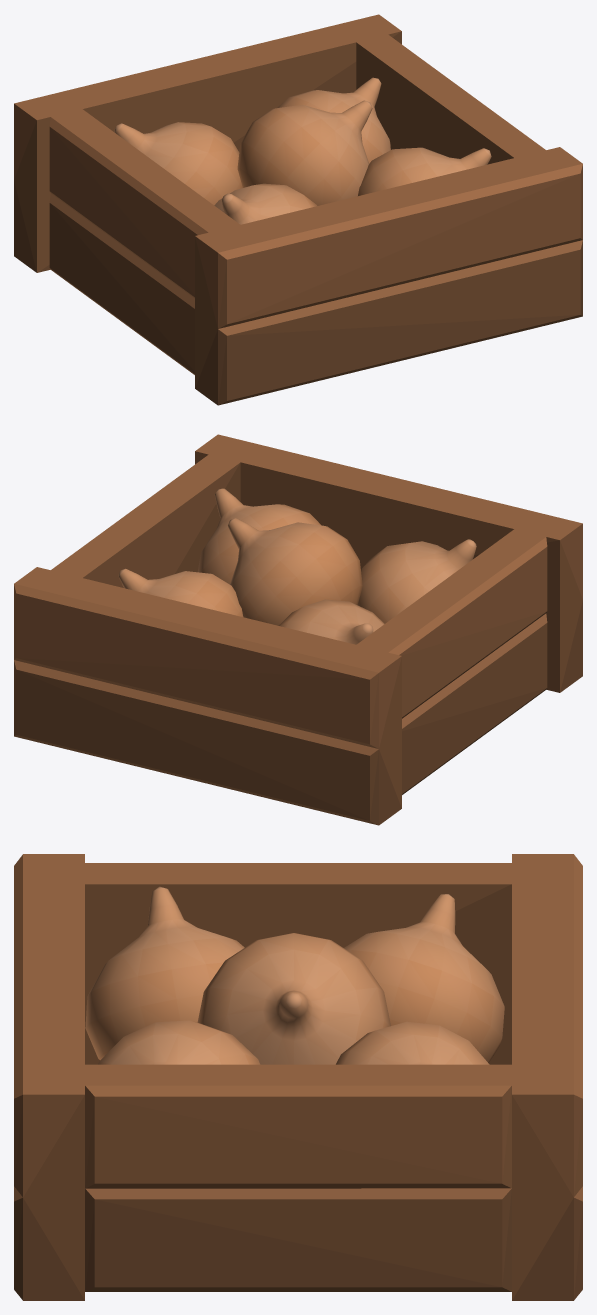
The model's file is kaykit_restaurant_crate_onions.glb.
The picture shows the model from 3 angles, top to bottom: view 1: azimuth 30°, elevation 25°; view 2: azimuth 150°, elevation 25°; view 3: azimuth 270°, elevation 25°; orthographic projection. The views are drawn at different scales.
Visible parts, largest first — view 1: wood; view 2: wood; view 3: wood.
Boxes of the visible parts, box(x1,y1,x2,y2) form: wood: box(14, 14, 582, 405); wood: box(14, 434, 582, 825); wood: box(14, 854, 582, 1300).
Bounding box in the file's own units: 2 × 0.9234 × 2.
